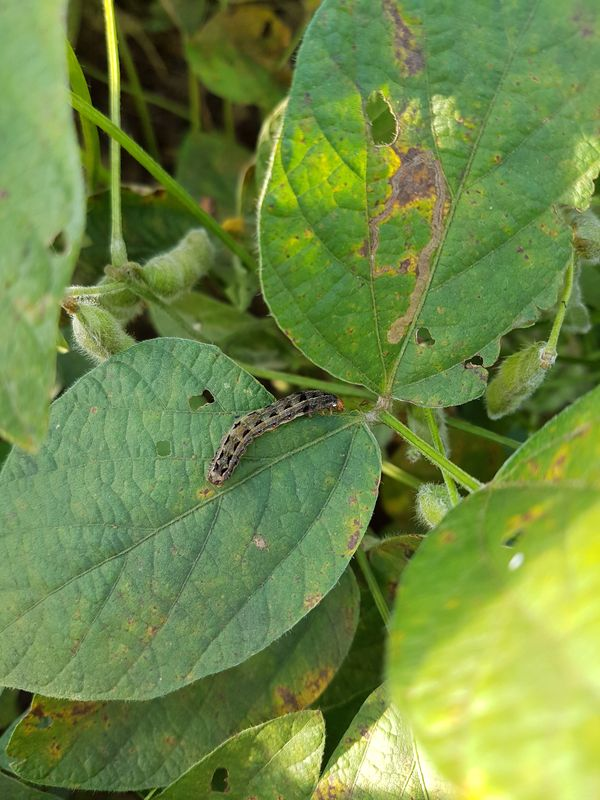Spodoptera_albula: (191, 369, 358, 500)
